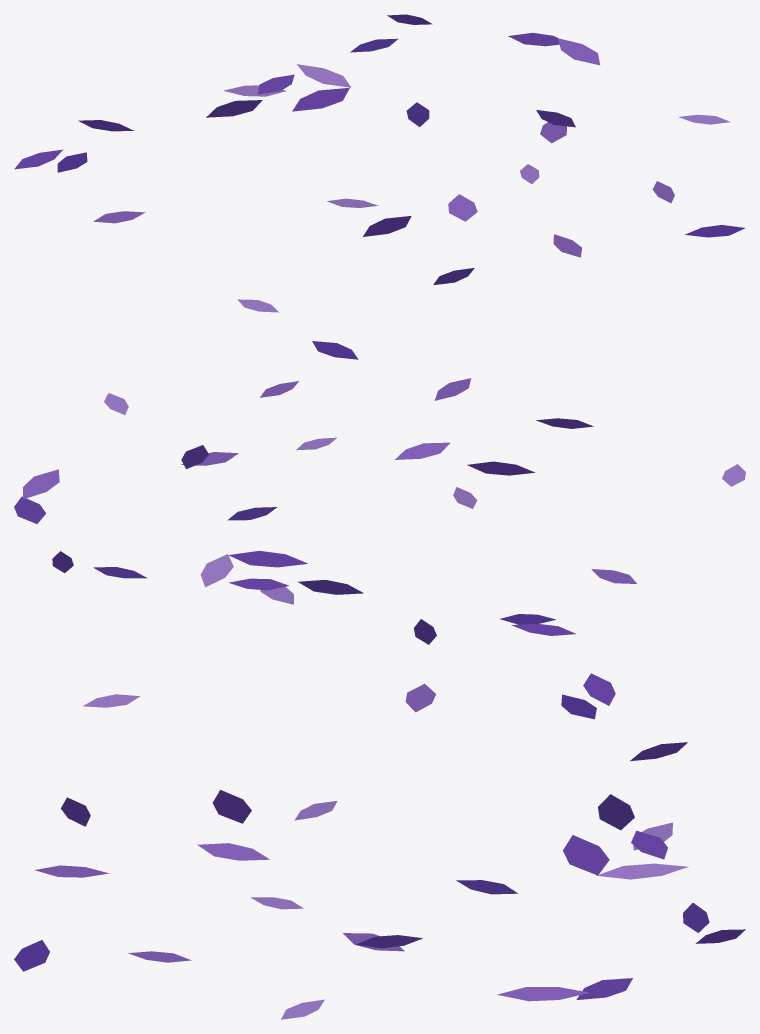
The model's file is arcane-leaves-a.glb.
3 renders of one model, top to bottom at view 1: azimuth 30°, elevation 25°; view 2: azimuth 150°, elevation 25°; view 3: azimuth 270°, elevation 25°, orthographic. The views are drawn at different scales.
Visible parts, largest first — view 1: arcane-leaves-a; view 2: arcane-leaves-a; view 3: arcane-leaves-a.
Boxes of the visible parts, x1,y1,x2,y2 form: arcane-leaves-a: (14, 14, 745, 312); arcane-leaves-a: (14, 341, 745, 644); arcane-leaves-a: (14, 673, 745, 1019).
Size of the model in its own units: 0.8207 by 0.00977 by 0.7365.
